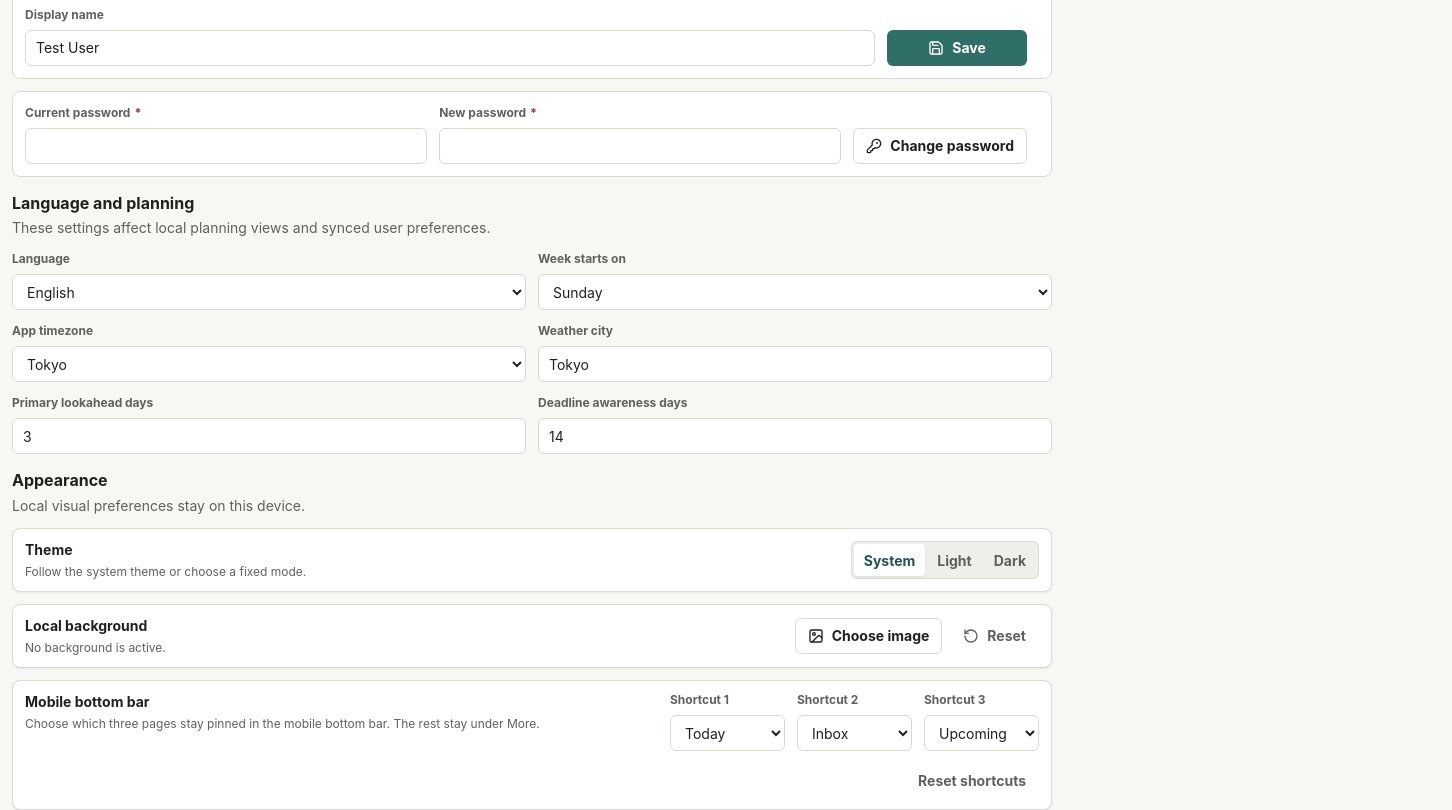
Test: SettingsPage › keeps mobile bottom bar shortcut controls usable, including reset
(page scrolled)
Expected: the dropdown labelled "App timezone" shows "Tokyo", 12,346 -> 526,382
Select "Deadlines" in the dropdown labelled "Shortcut 1". click: [728, 733]
box: 670,715 -> 785,751
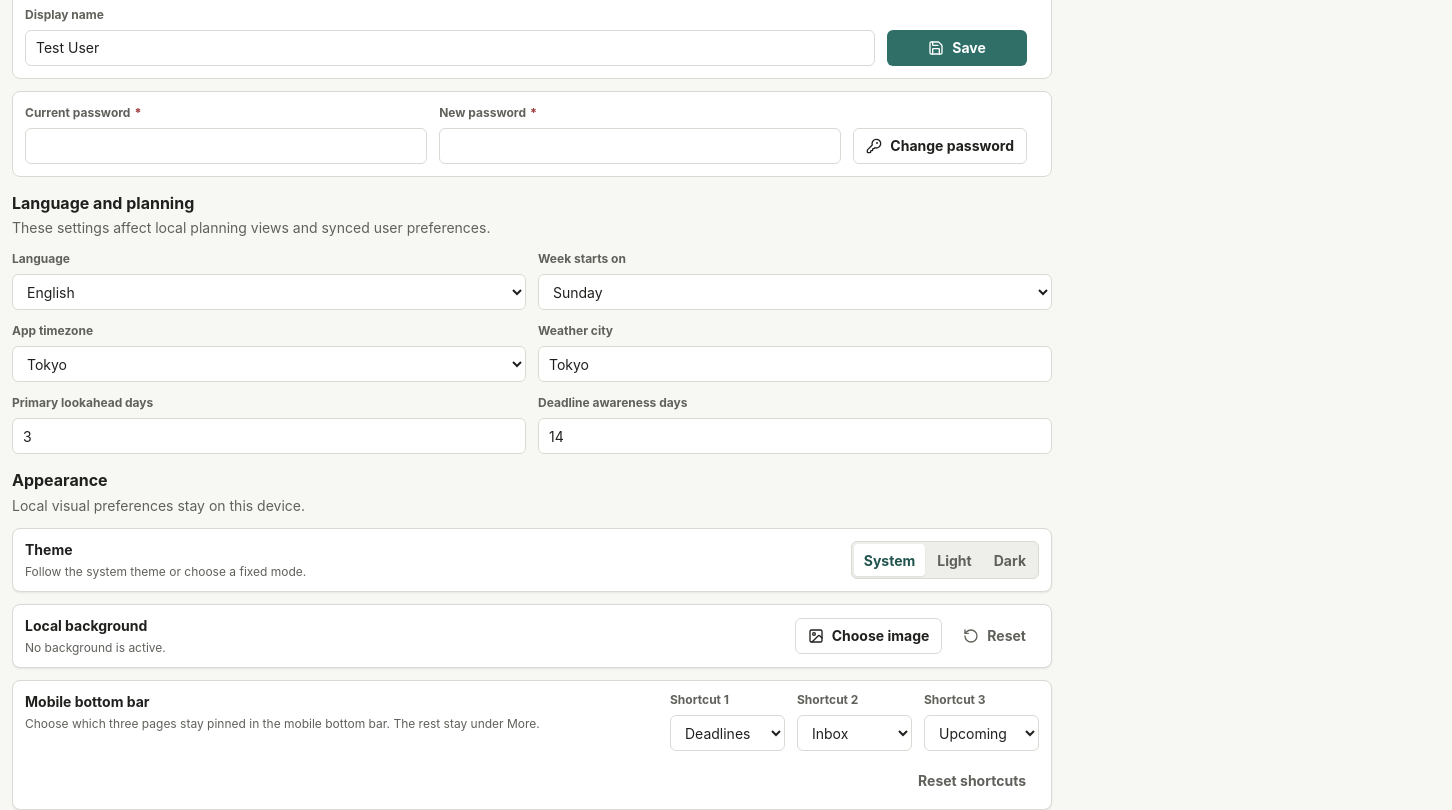
Click the button "Reset shortcuts". click: [972, 781]
box: 905,763 -> 1039,799
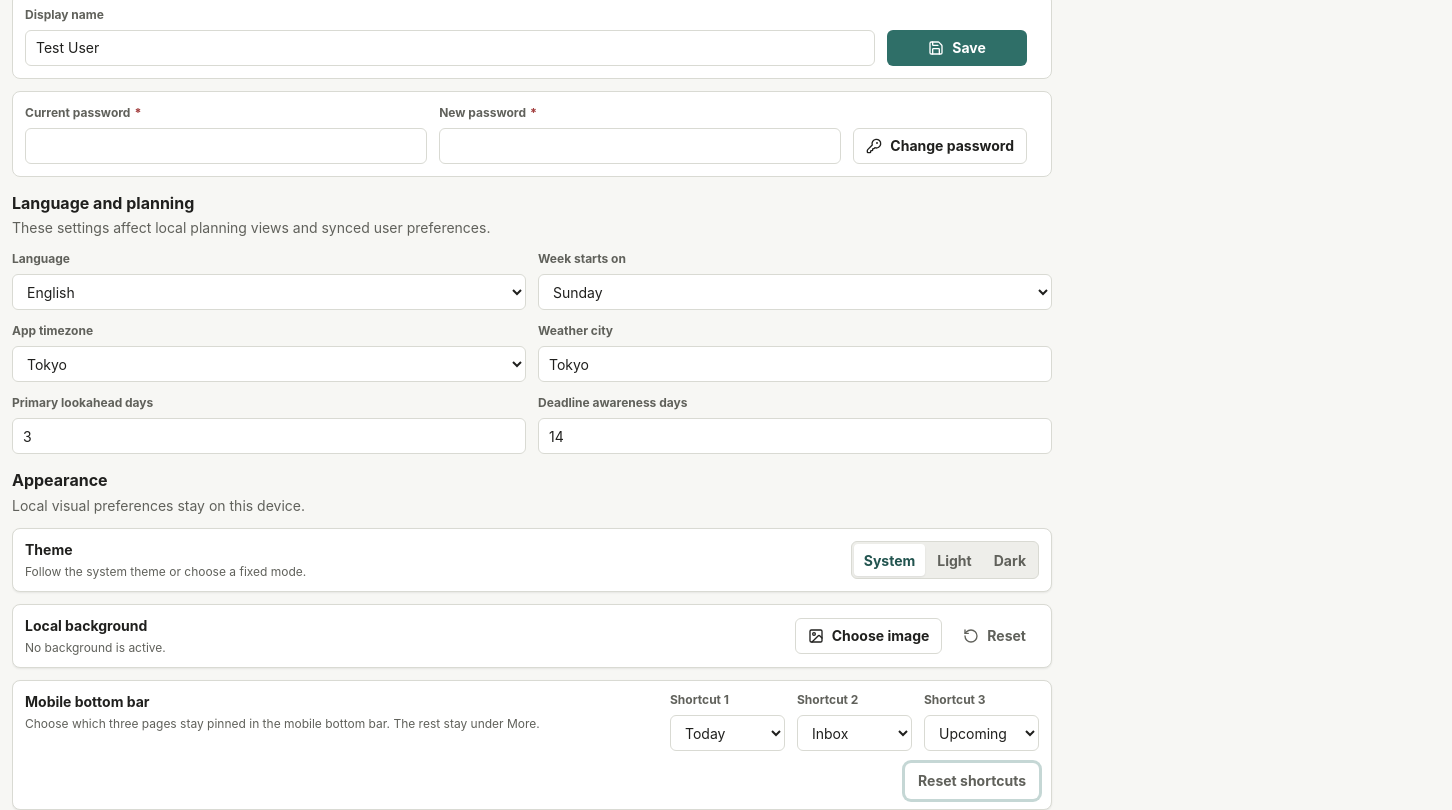
Expected: the dropdown labelled "Shortcut 2" shows "Inbox", 797,715 -> 912,751
Expected: the dropdown labelled "Shortcut 1" shows "Today", 670,715 -> 785,751
